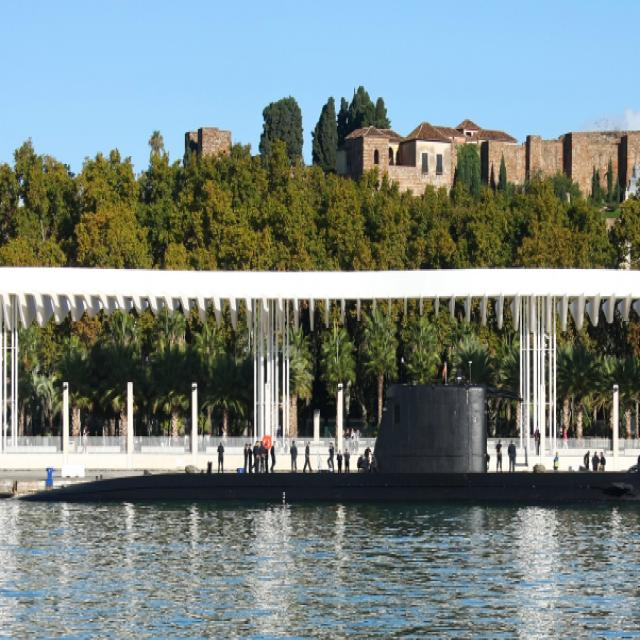submarine: (16, 382, 640, 506)
